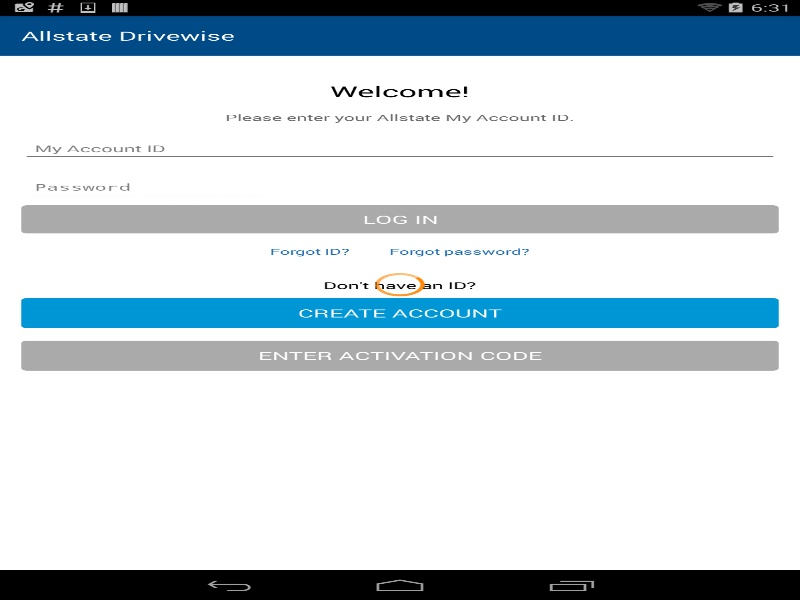Button: (21, 298, 778, 328), (21, 340, 778, 370), (21, 205, 778, 233)
Input: (21, 135, 778, 161), (21, 174, 778, 200)
